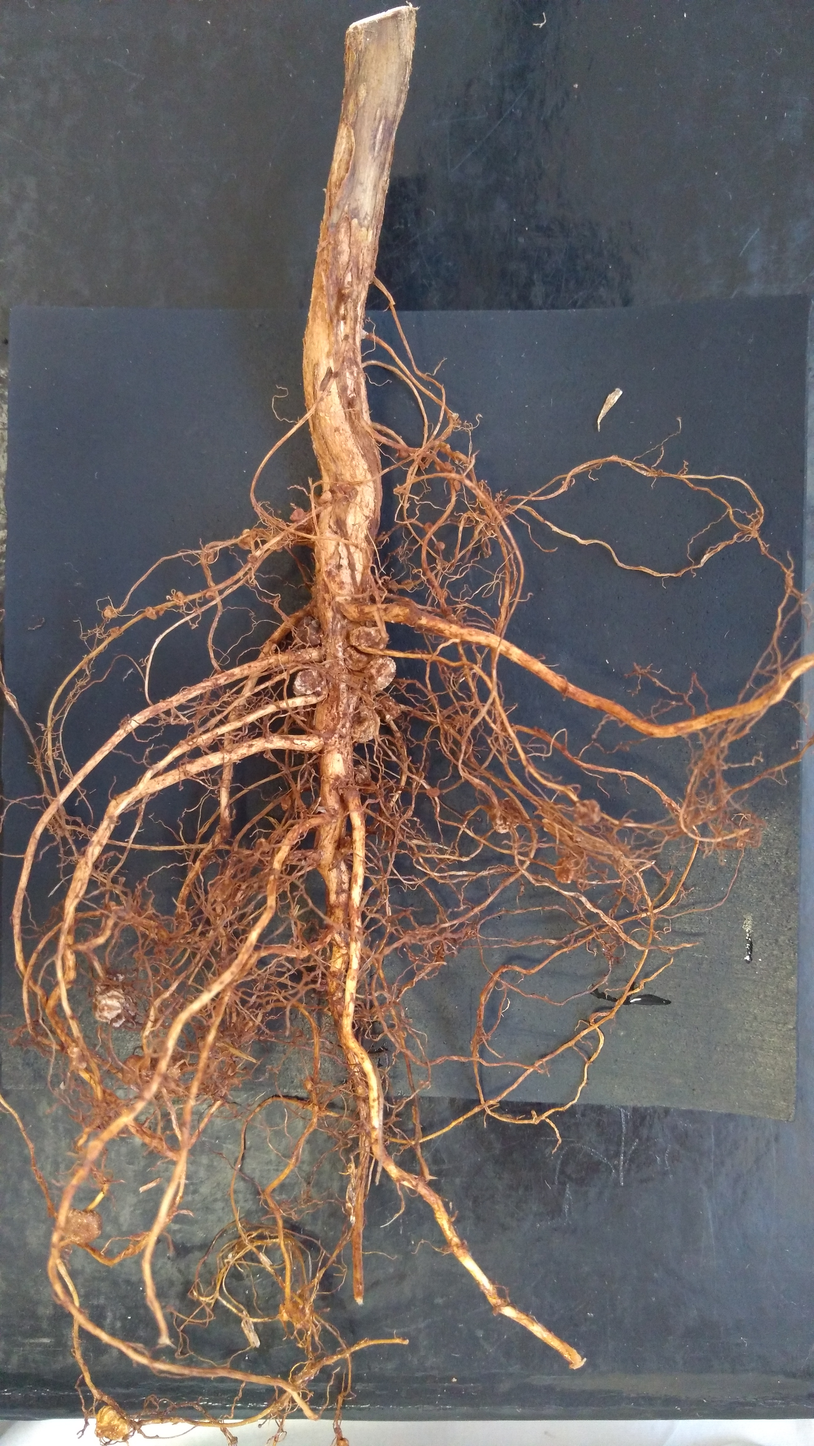nodule: (345, 629, 390, 671), (62, 1206, 103, 1245), (91, 984, 126, 1023), (350, 704, 381, 745), (94, 1405, 130, 1440), (488, 798, 523, 834), (363, 656, 397, 690), (107, 994, 138, 1028), (292, 667, 328, 696), (288, 1293, 315, 1330), (571, 797, 602, 827), (346, 625, 382, 650), (121, 1053, 147, 1084), (295, 616, 321, 646), (375, 696, 402, 720), (211, 875, 235, 902), (553, 857, 576, 884), (331, 482, 359, 504), (66, 1046, 87, 1071), (344, 1177, 357, 1214), (318, 365, 333, 392), (238, 528, 256, 550), (355, 764, 372, 784), (338, 836, 353, 856), (164, 1062, 181, 1079), (317, 490, 334, 506), (277, 1303, 291, 1322), (255, 838, 271, 854), (234, 1238, 251, 1252), (289, 508, 305, 522), (102, 606, 118, 619), (361, 780, 377, 793), (453, 713, 470, 725), (382, 826, 395, 841), (174, 590, 186, 606), (380, 802, 392, 818), (395, 446, 409, 459), (145, 606, 157, 621), (280, 795, 292, 810), (401, 578, 414, 591), (426, 787, 441, 798), (303, 1075, 313, 1091), (110, 625, 123, 637), (246, 553, 260, 564), (205, 550, 215, 564), (492, 1305, 502, 1317), (336, 1437, 350, 1445), (423, 521, 433, 532), (434, 541, 445, 551), (390, 580, 400, 591), (446, 613, 457, 623), (347, 1161, 356, 1173), (441, 606, 453, 615), (411, 1106, 417, 1123), (444, 461, 454, 471), (157, 606, 167, 616), (453, 479, 461, 491), (434, 462, 443, 472), (499, 1298, 509, 1307), (440, 589, 448, 598), (750, 530, 758, 538)
